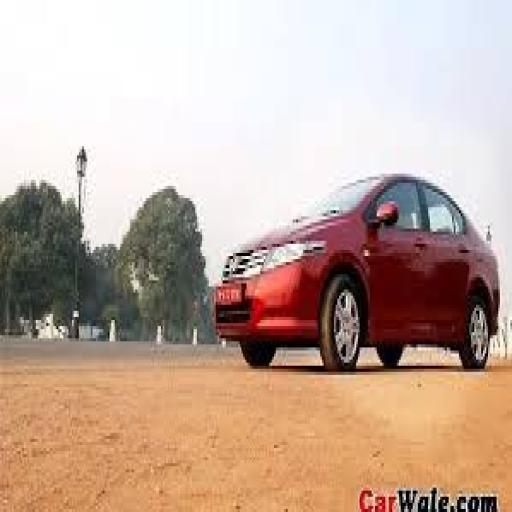License: (212, 281, 249, 311)
